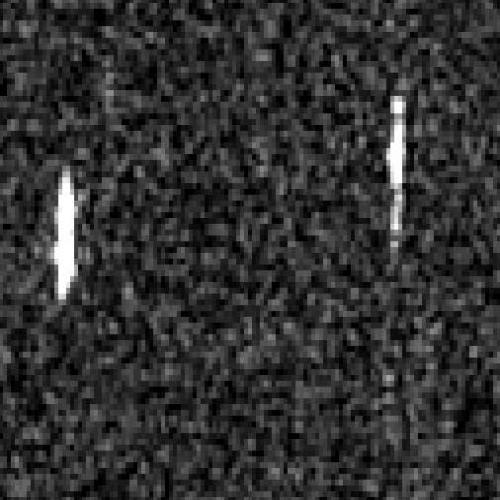ship: (53, 167, 79, 299), (386, 94, 407, 232)
